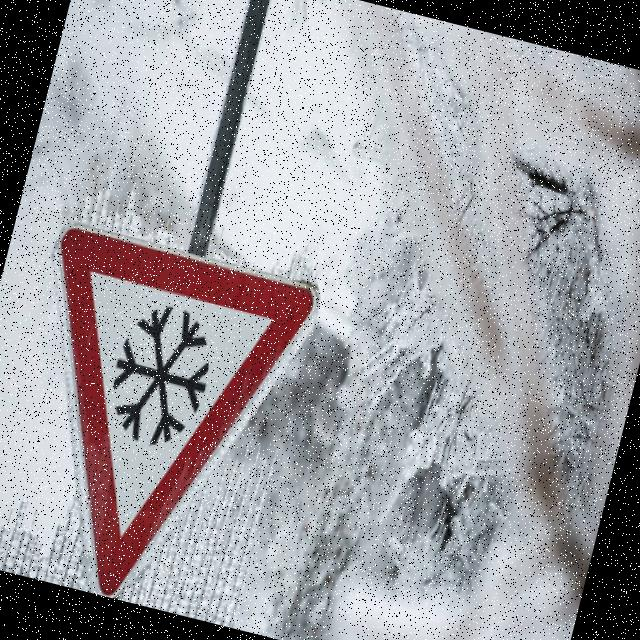snow_warning: (0, 199, 330, 630)
